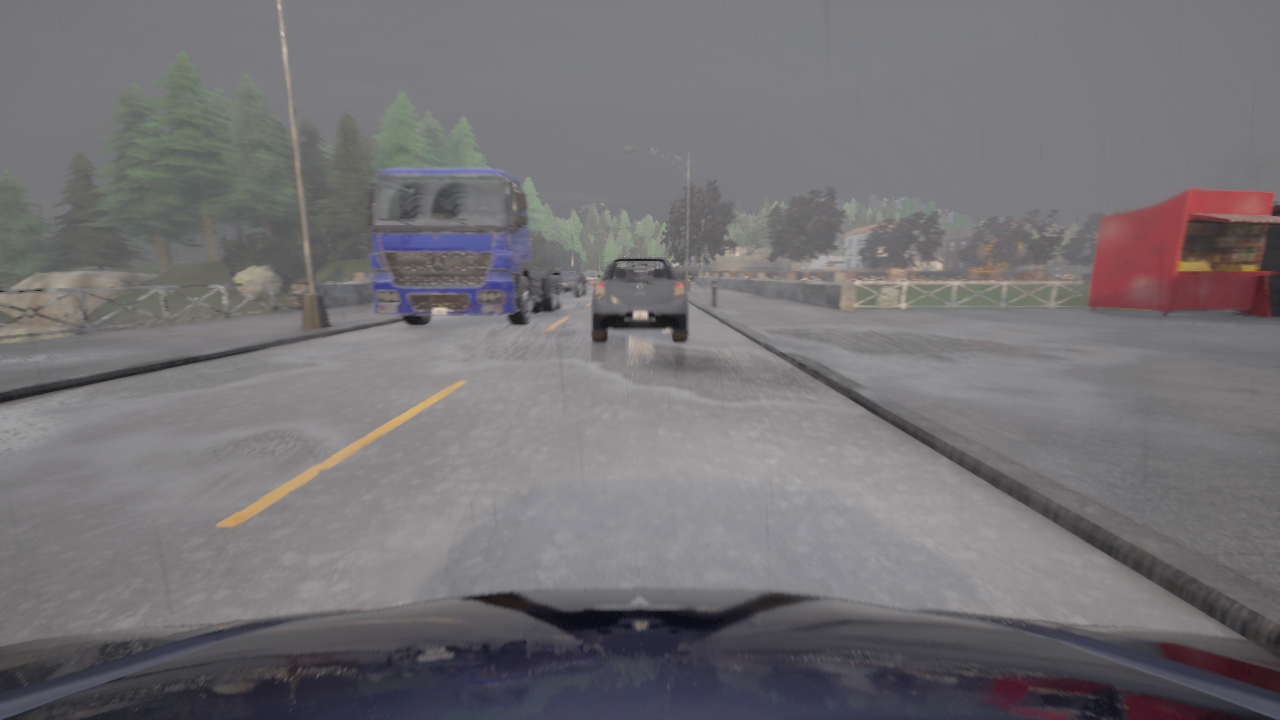cyclist: (0, 588, 1279, 719), (364, 168, 563, 325), (592, 257, 687, 341), (555, 268, 586, 296), (582, 269, 601, 285)
